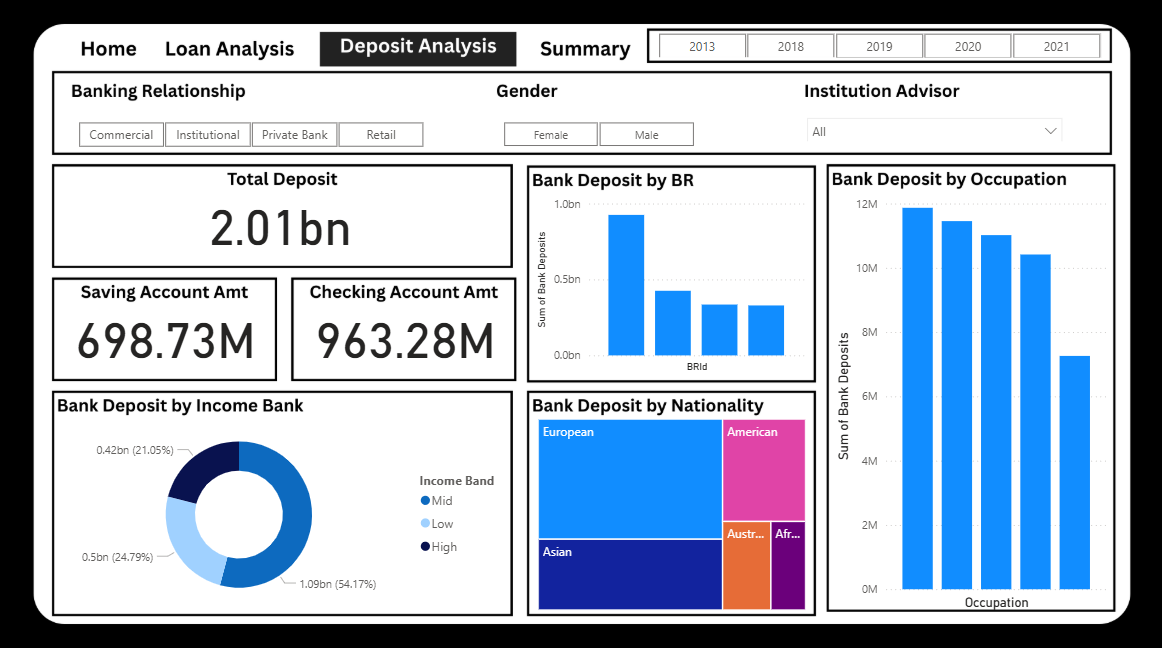

The page's visual inventory and layout, read from the dashboard file:
{"tool":"powerbi","page":{"name":"Deposite Analysis","canvas":[1280,720],"ordinal":2},"visuals":[{"type":"card","fields":{"Values":["Sum(Banking_Clients.Bank Deposits)"]},"box":[60.4,214.1,496.7,65.9],"z":0},{"type":"card","fields":{"Values":["Sum(Banking_Clients.Saving Accounts)"]},"box":[61.5,339,241.3,66.4],"z":1000},{"type":"card","fields":{"Values":["Sum(Banking_Clients.Checking Accounts)"]},"box":[325.7,339,241.3,66.4],"z":2000},{"type":"slicer","fields":{"Values":["Banking_Clients.Year of Joining"]},"box":[698.5,35,534.5,32.6],"z":3000},{"type":"donutChart","fields":{"Category":["Banking_Clients.Income Band"],"Y":["Banking_Clients.Bank Deposit"]},"box":[60.4,459.7,506.3,219.6],"z":4000},{"type":"clusteredColumnChart","fields":{"Category":["Banking_Clients.BRId"],"Y":["Sum(Banking_Clients.Bank Deposits)"]},"box":[585.9,214.1,303.3,204.5],"z":5000},{"type":"treemap","fields":{"Values":["Sum(Banking_Clients.Bank Deposits)"],"Details":["Banking_Clients.Nationality"]},"box":[587.3,459.7,303.3,219.6],"z":6000},{"type":"clusteredColumnChart","fields":{"Category":["Banking_Clients.Occupation"],"Y":["Sum(Banking_Clients.Bank Deposits)"]},"box":[913.9,214.1,307.4,465.2],"z":7000},{"type":"actionButton","box":[79.6,34.3,82.3,39.8],"z":8000},{"type":"actionButton","box":[588.7,35.7,109.8,39.8],"z":9000},{"type":"slicer","fields":{"Values":["Banking_Clients.BRId"]},"box":[61.5,131.5,428.3,36.2],"z":10000},{"type":"slicer","fields":{"Values":["Banking_Clients.GenderId"]},"box":[528.4,131.5,258.2,36.2],"z":11000},{"type":"slicer","fields":{"Values":["Banking_Clients.IAId"]},"box":[877.1,123.1,300.4,36.2],"z":12000},{"type":"actionButton","box":[175.6,37,160.5,37],"z":13000}]}

Visuals, with their boxes in screenshot pixels (x1, y1, x2, y2), scaled from the page's 1280x720 canvas onto the 1162x648 screenshot:
card - Sum(Banking_Clients.Bank Deposits): x1=55, y1=193, x2=506, y2=252
card - Sum(Banking_Clients.Saving Accounts): x1=56, y1=305, x2=275, y2=365
card - Sum(Banking_Clients.Checking Accounts): x1=296, y1=305, x2=515, y2=365
slicer - Banking_Clients.Year of Joining: x1=634, y1=32, x2=1119, y2=61
donutChart - Banking_Clients.Income Band x Banking_Clients.Bank Deposit: x1=55, y1=414, x2=514, y2=611
clusteredColumnChart - Banking_Clients.BRId x Sum(Banking_Clients.Bank Deposits): x1=532, y1=193, x2=807, y2=377
treemap - Sum(Banking_Clients.Bank Deposits) x Banking_Clients.Nationality: x1=533, y1=414, x2=808, y2=611
clusteredColumnChart - Banking_Clients.Occupation x Sum(Banking_Clients.Bank Deposits): x1=830, y1=193, x2=1109, y2=611
actionButton: x1=72, y1=31, x2=147, y2=67
actionButton: x1=534, y1=32, x2=634, y2=68
slicer - Banking_Clients.BRId: x1=56, y1=118, x2=445, y2=151
slicer - Banking_Clients.GenderId: x1=480, y1=118, x2=714, y2=151
slicer - Banking_Clients.IAId: x1=796, y1=111, x2=1069, y2=143
actionButton: x1=159, y1=33, x2=305, y2=67
